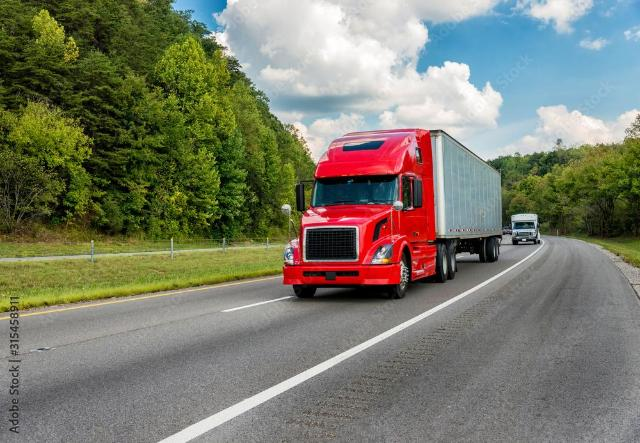truck: (280, 128, 504, 299), (509, 210, 541, 244)
